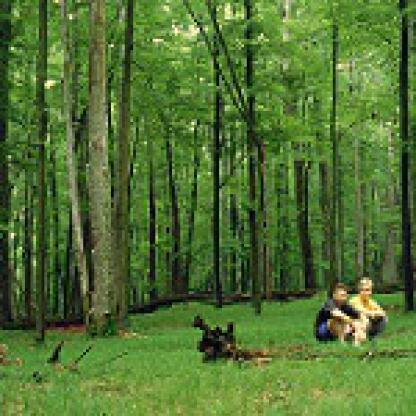trunk: (89, 0, 119, 336), (108, 2, 136, 336), (61, 78, 92, 330), (244, 0, 266, 305), (33, 0, 50, 344), (0, 3, 17, 327), (400, 0, 414, 316), (210, 39, 224, 299), (327, 31, 341, 288), (291, 161, 319, 288), (164, 144, 183, 300), (183, 152, 202, 300), (147, 175, 158, 308), (355, 183, 366, 272)
